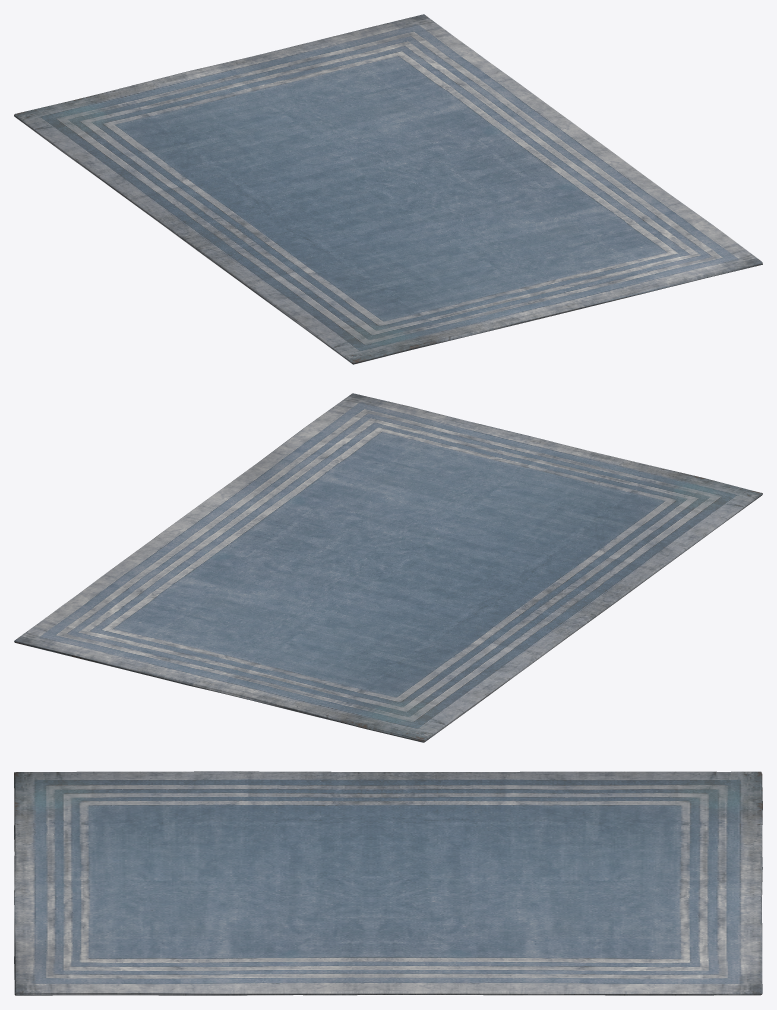
The model's file is Carpet.FBX.
3 views of the same model, one above another, from view 1: azimuth 30°, elevation 25°; view 2: azimuth 150°, elevation 25°; view 3: azimuth 270°, elevation 25° (orthographic). The views are drawn at different scales.
Visible parts, largest first — view 1: carpet; view 2: carpet; view 3: carpet.
Boxes of the visible parts, bbox=[...] form: carpet: bbox=[14, 14, 762, 364]; carpet: bbox=[14, 393, 762, 742]; carpet: bbox=[14, 771, 762, 995].
Bounding box in the file's own units: 200 × 1.94 × 285.
Materials: 1 (1 with a texture image).
